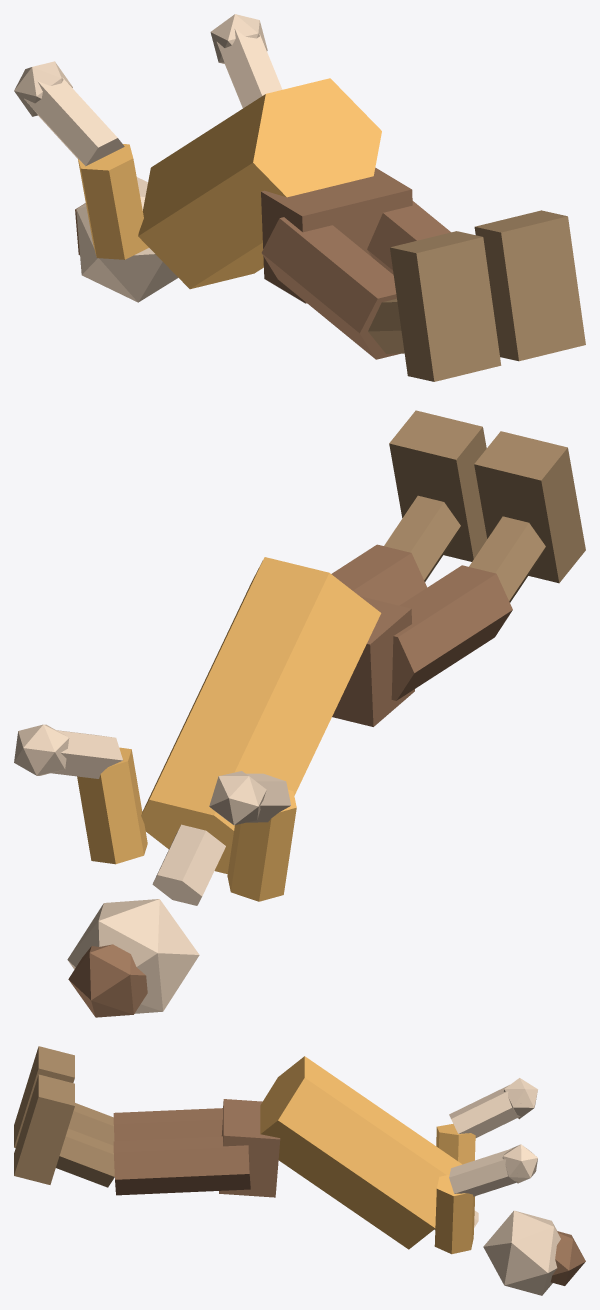
Rendered from pose_dodge_roll_29.glb.
The picture shows the model from 3 angles, top to bottom: view 1: azimuth 30°, elevation 25°; view 2: azimuth 150°, elevation 25°; view 3: azimuth 270°, elevation 25°; orthographic projection. The views are drawn at different scales.
Visible parts, largest first — view 1: pose; view 2: pose; view 3: pose.
Boxes of the visible parts, x1=… form: pose: x1=14, y1=14, x2=585, y2=381; pose: x1=14, y1=410, x2=585, y2=1017; pose: x1=14, y1=1046, x2=585, y2=1295.
Bounding box in the file's own units: 0.5077 × 0.6527 × 1.51.
